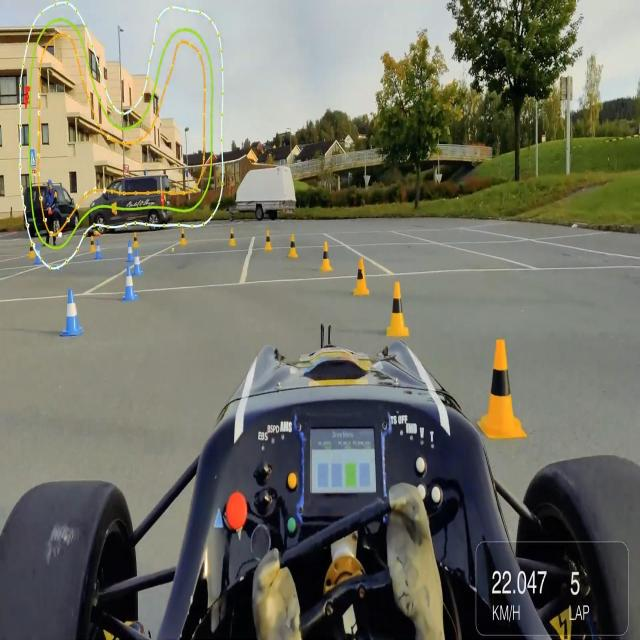blue_cone: (60, 286, 84, 338), (120, 266, 138, 304), (131, 249, 143, 277), (125, 238, 136, 263), (95, 238, 104, 262), (34, 244, 41, 268)
yellow_cone: (476, 335, 531, 445), (382, 277, 410, 339), (352, 257, 370, 298), (317, 239, 333, 274), (285, 231, 300, 261), (263, 228, 274, 252), (228, 226, 238, 248), (179, 226, 187, 247), (132, 228, 140, 248), (28, 240, 36, 259), (88, 233, 95, 252)
